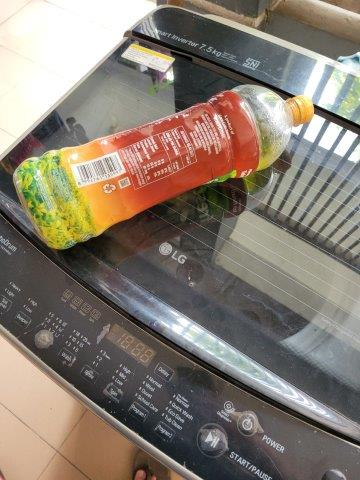botolplastik: (14, 83, 314, 251)
